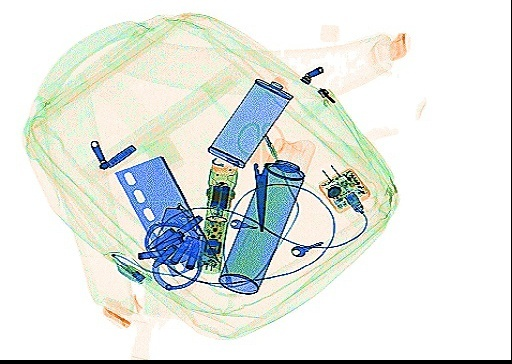handcuffs: (140, 214, 210, 291)
pressure: (217, 137, 316, 296), (207, 76, 293, 169)
scissors: (234, 120, 286, 233)
